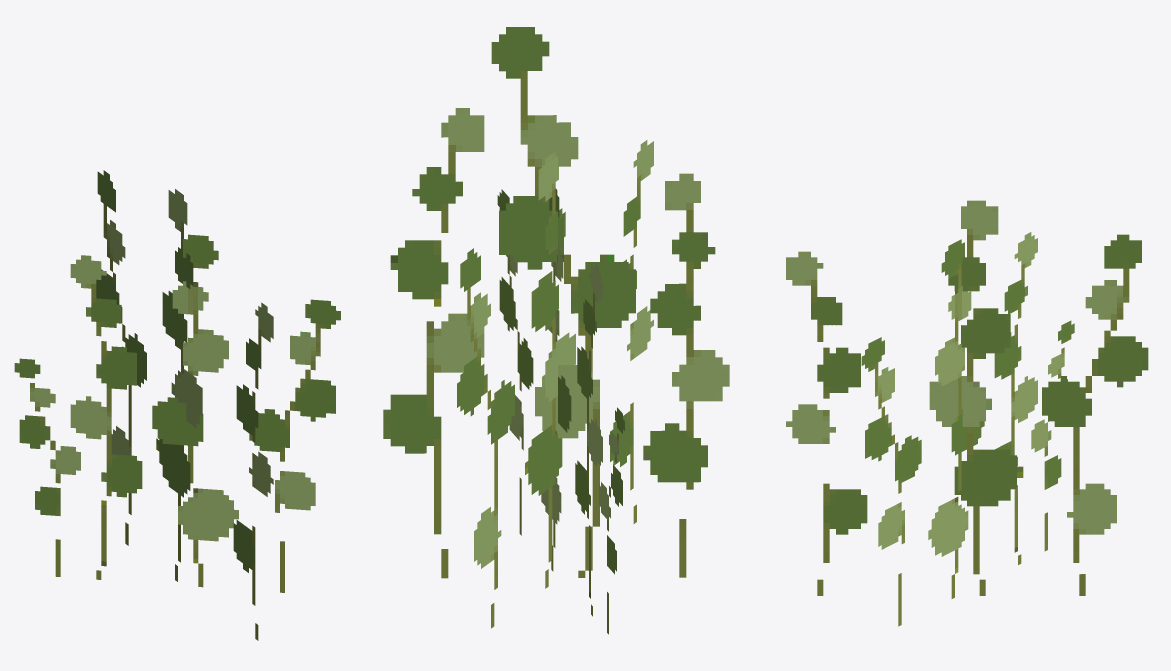
Rendered from Mini_Plant_3.gltf.
3 views of the same model, side by side, from view 1: azimuth 30°, elevation 25°; view 2: azimuth 150°, elevation 25°; view 3: azimuth 270°, elevation 25° (orthographic). The views are drawn at different scales.
Parts seen in each view (by area): view 1: Mini_Plant_3; view 2: Mini_Plant_3; view 3: Mini_Plant_3.
Boxes of the visible parts, x1=… form: Mini_Plant_3: x1=14, y1=170, x2=340, y2=640; Mini_Plant_3: x1=383, y1=27, x2=729, y2=634; Mini_Plant_3: x1=786, y1=200, x2=1148, y2=626.
Size of the model in its own units: 5.33 by 10.54 by 7.04.
1 material, 1 textured.
